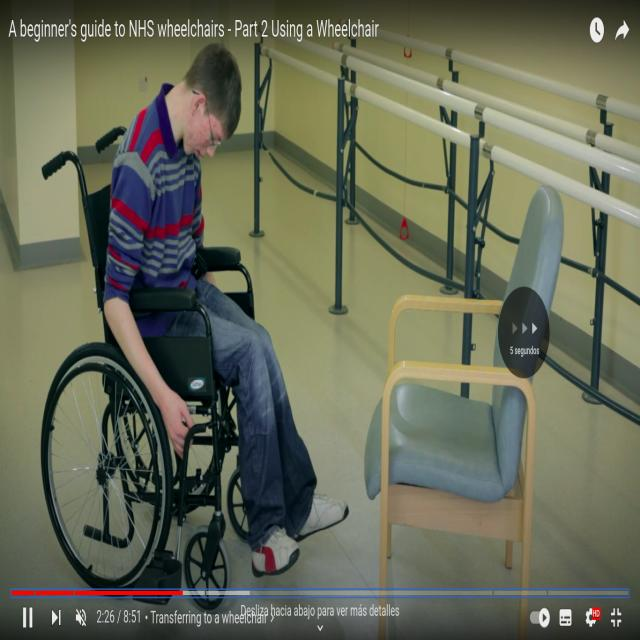wheelchairs: (38, 128, 276, 587)
